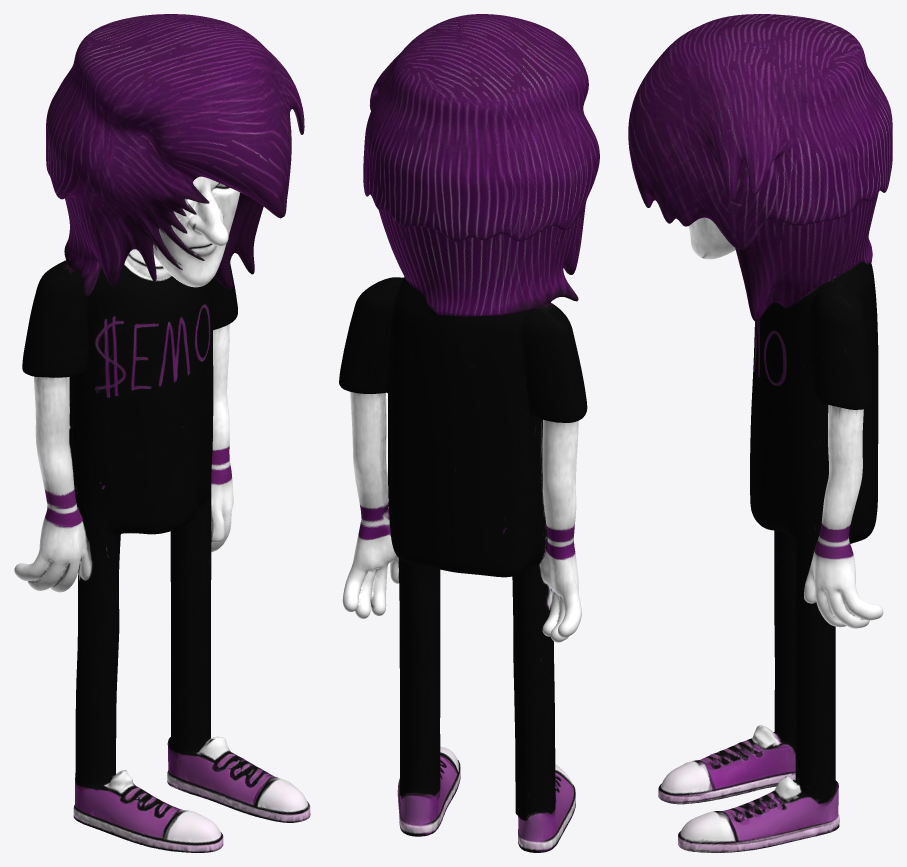
The model's file is EMO_opt.glb.
The picture shows the model from 3 angles, left to right: view 1: azimuth 30°, elevation 25°; view 2: azimuth 150°, elevation 25°; view 3: azimuth 270°, elevation 25°; orthographic projection.
Bounding box in the file's own units: 0.6163 × 1.9 × 0.5836.
1 material, 1 textured.
